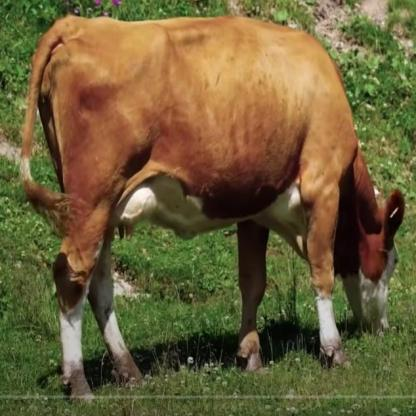cow: (40, 18, 398, 402)
